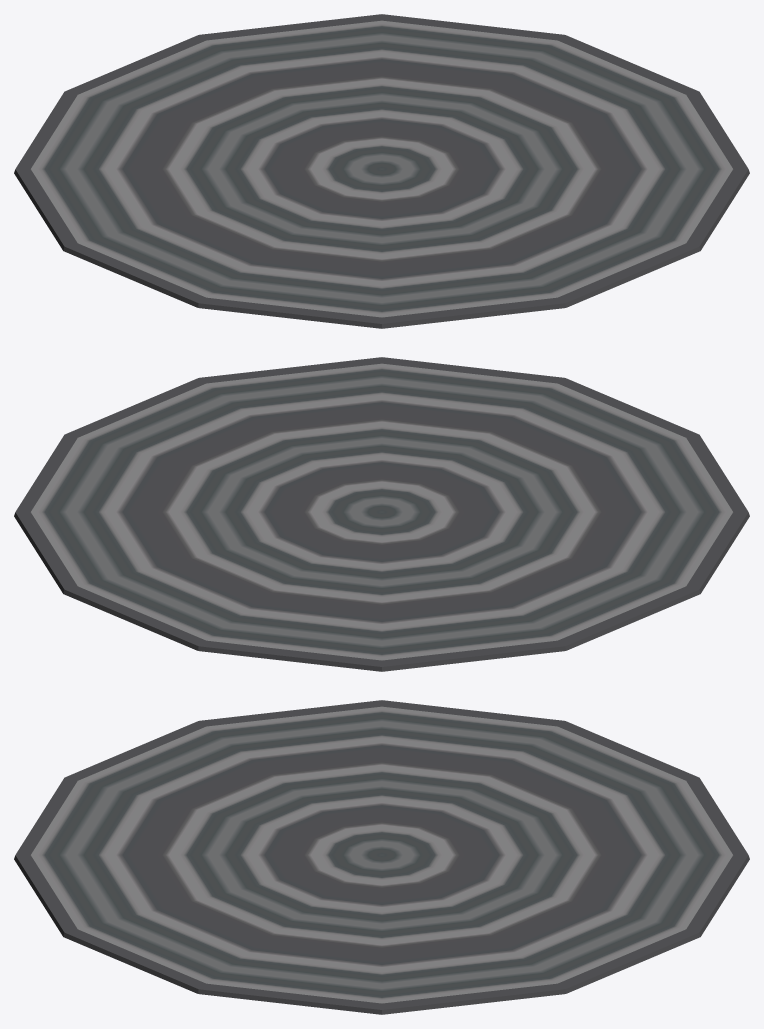
The model's file is SM_Prop_Rug_Circle_01.obj.
3 views of the same model, one above another, from view 1: azimuth 30°, elevation 25°; view 2: azimuth 150°, elevation 25°; view 3: azimuth 270°, elevation 25° (orthographic).
Parts seen in each view (by area): view 1: SM_Prop_Rug_Circle_01_0; view 2: SM_Prop_Rug_Circle_01_0; view 3: SM_Prop_Rug_Circle_01_0.
Boxes of the visible parts, x1=… form: SM_Prop_Rug_Circle_01_0: x1=14, y1=14, x2=749, y2=328; SM_Prop_Rug_Circle_01_0: x1=14, y1=357, x2=749, y2=671; SM_Prop_Rug_Circle_01_0: x1=14, y1=700, x2=749, y2=1014.
Size of the model in its own units: 3.8 by 0.0243 by 3.8.
Materials: 1 (1 with a texture image).
